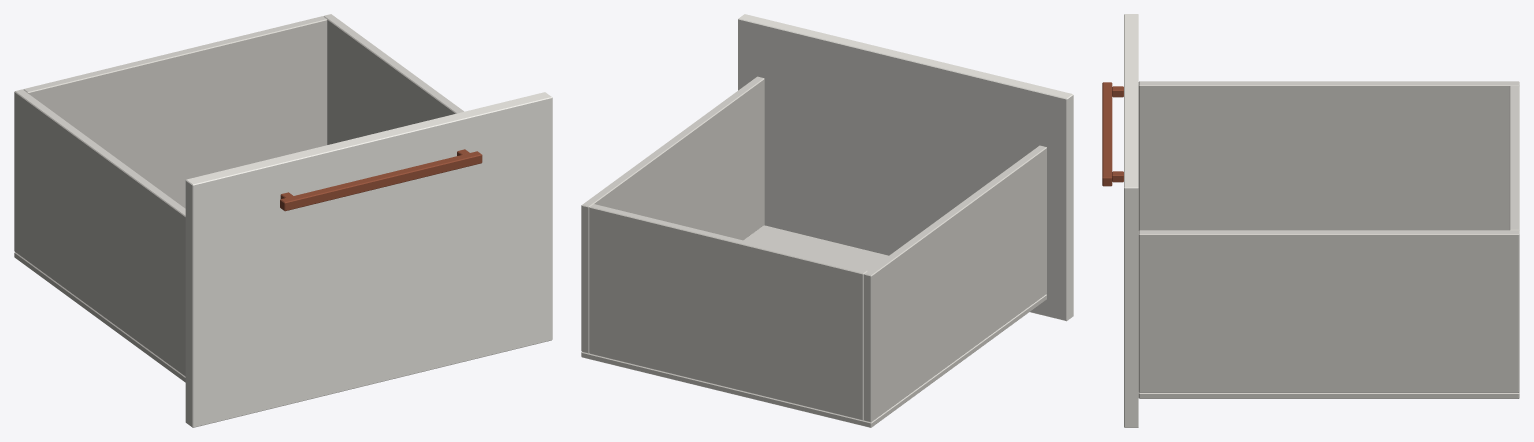
The model's file is l_kitchen_short_return_b3_bottom_drawer.glb.
3 views of the same model, side by side, from view 1: azimuth 30°, elevation 25°; view 2: azimuth 150°, elevation 25°; view 3: azimuth 270°, elevation 25° (orthographic). The views are drawn at different scales.
Visible parts, largest first — view 1: l_kitchen_short_return_b3_bottom_drawer; view 2: l_kitchen_short_return_b3_bottom_drawer; view 3: l_kitchen_short_return_b3_bottom_drawer.
Boxes of the visible parts, x1=… form: l_kitchen_short_return_b3_bottom_drawer: x1=14, y1=14, x2=552, y2=427; l_kitchen_short_return_b3_bottom_drawer: x1=581, y1=14, x2=1073, y2=427; l_kitchen_short_return_b3_bottom_drawer: x1=1102, y1=14, x2=1519, y2=427.
Bounding box in the file's own units: 0.497 × 0.321 × 0.504.
